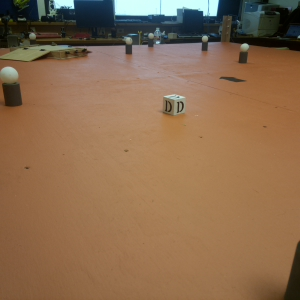blockD: (164, 92, 185, 115)
corner: (220, 15, 231, 42)
obstacle: (1, 65, 22, 107), (239, 43, 248, 63), (125, 36, 133, 55), (201, 36, 209, 53), (28, 32, 37, 45), (148, 33, 154, 48)
side: (57, 48, 89, 59)
slope: (3, 48, 50, 61)
start: (219, 75, 245, 84)
